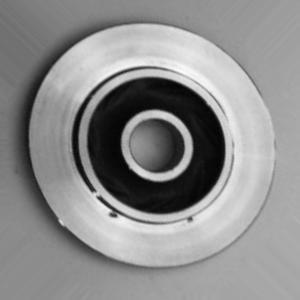defect: (101, 197, 210, 236)
